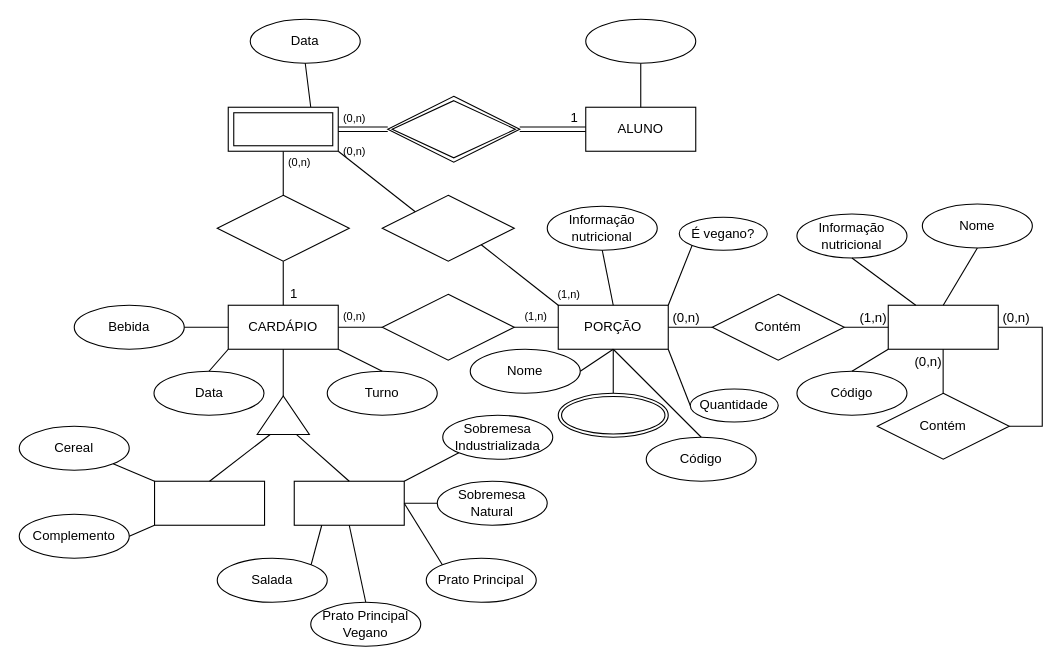
This 1063x666 diagram has some shape labels left out. The shapes that lost their labels are listed below. From the top down, each one's box as (x1, y1, x2, y2) in pixels, then its label:
(585, 18, 696, 63): Identificação
(227, 106, 338, 151): Bandeja
(387, 95, 520, 162): Monta
(216, 194, 349, 261): Observa
(381, 194, 514, 261): Escolhe
(381, 293, 514, 360): Inclui
(887, 304, 998, 349): INGREDIENTE
(557, 392, 668, 437): Estatísticas de Consumo
(153, 480, 265, 525): Café da Manhã
(293, 480, 404, 525): Refeição
